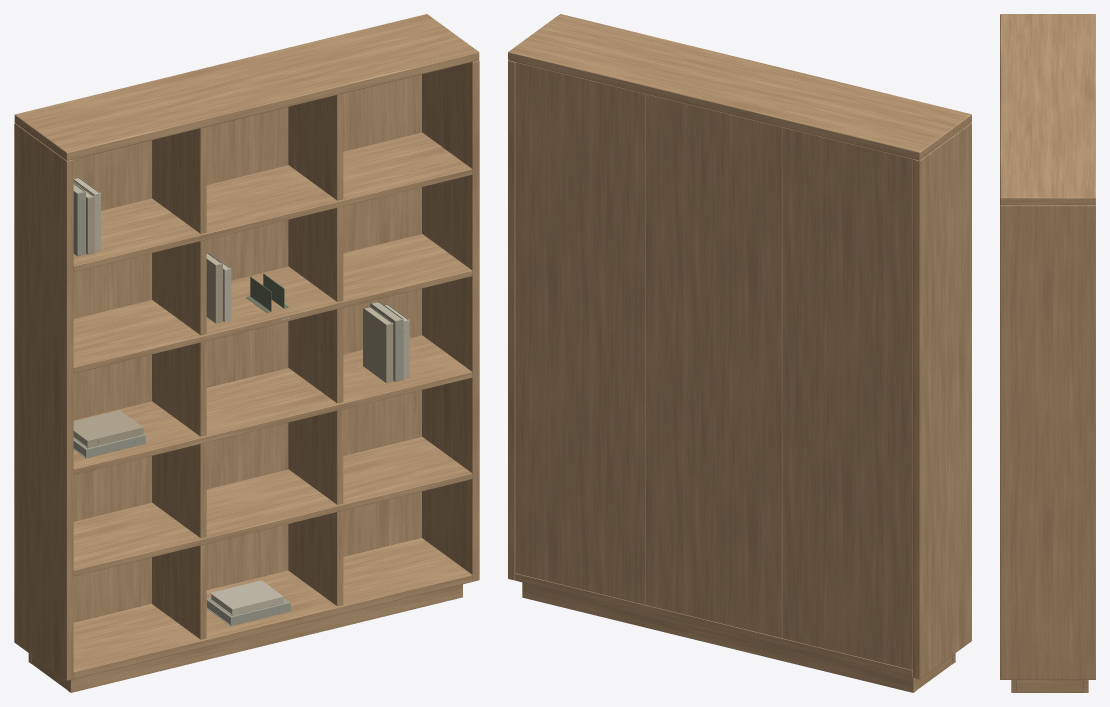
File: 01_OakBookcase.glb
3 views of the same model, side by side, from view 1: azimuth 30°, elevation 25°; view 2: azimuth 150°, elevation 25°; view 3: azimuth 270°, elevation 25° (orthographic). The views are drawn at different scales.
Visible parts, largest first — view 1: Side_L, Crown, Side_R, Back_Panel_2, Back_Panel_1, Shelf_01, Back_Panel_3, Shelf_04, Bottom_Deck, Shelf_03, Shelf_02, Plinth_Front (+18 smaller); view 2: Back_Panel_2, Back_Panel_3, Back_Panel_1, Side_L, Crown, Plinth_Back, Side_R, Bottom_Deck; view 3: Side_R, Crown, Plinth_Return_R.
Part boxes in pixels (x1,y1,x2,y2): Side_L: [14, 123, 73, 680]; Crown: [14, 14, 479, 160]; Side_R: [422, 60, 479, 581]; Back_Panel_2: [206, 107, 288, 589]; Back_Panel_1: [73, 140, 151, 622]; Shelf_01: [73, 437, 472, 576]; Back_Panel_3: [343, 74, 421, 556]; Shelf_04: [73, 132, 472, 271]; Bottom_Deck: [73, 538, 472, 678]; Shelf_03: [73, 234, 472, 373]; Shelf_02: [73, 335, 472, 474]; Plinth_Front: [68, 584, 462, 692]; Back_Panel_2: [646, 94, 782, 637]; Back_Panel_3: [515, 62, 645, 604]; Back_Panel_1: [782, 127, 912, 669]; Side_L: [913, 123, 971, 679]; Crown: [508, 14, 971, 160]; Plinth_Back: [522, 582, 916, 692]; Side_R: [508, 60, 515, 580]; Bottom_Deck: [515, 573, 912, 677]; Side_R: [1000, 205, 1095, 679]; Crown: [1000, 14, 1095, 205]; Plinth_Return_R: [1016, 680, 1083, 692].
Bounding box in the file's own units: 1.5 × 1.9 × 0.3304.
Materials: 12 (1 with a texture image).
